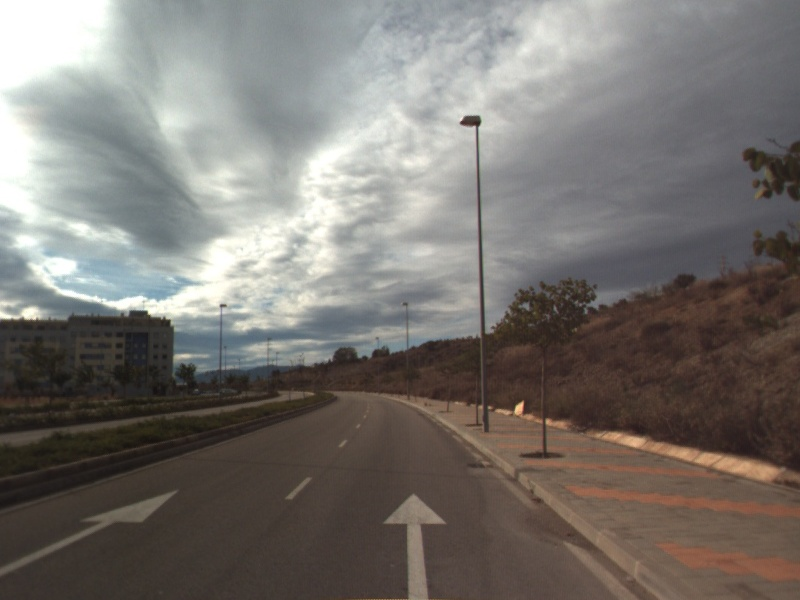STRAIGHT: (1, 488, 181, 578), (381, 491, 449, 600)
